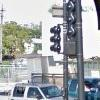Traffic light: (48, 4, 78, 60)
